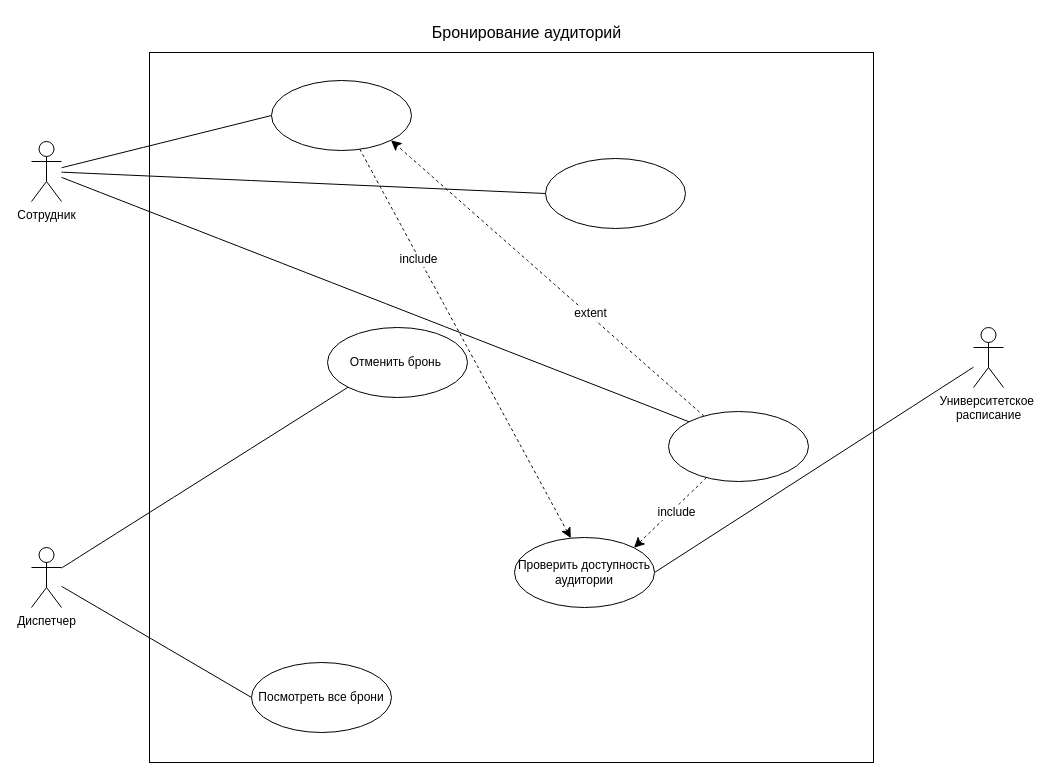
The diagram is 1055 pixels wide and 780 high, and some of its shapes have lost their labels. Each missing label, with the centre of its shape:
Забронировать аудиторию: point 341,115
Заказать оборудование: point 738,446
Просмотреть свободные аудитории: point 615,193
